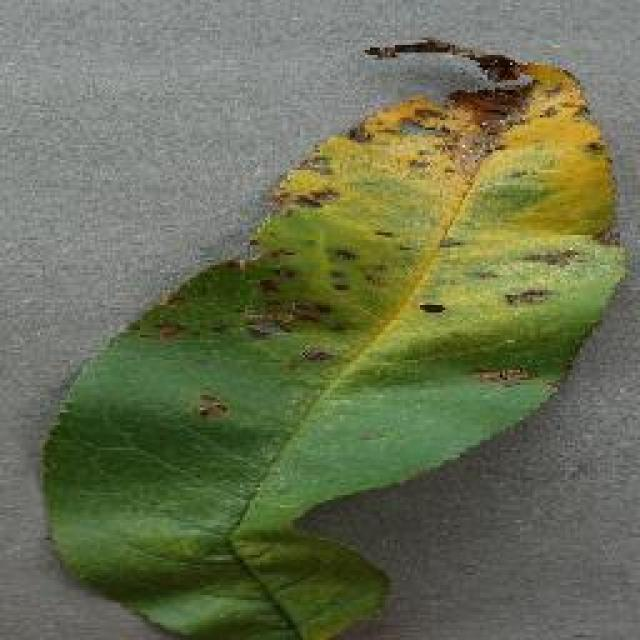Peach_Bacterial_Spot: (257, 90, 605, 385)
